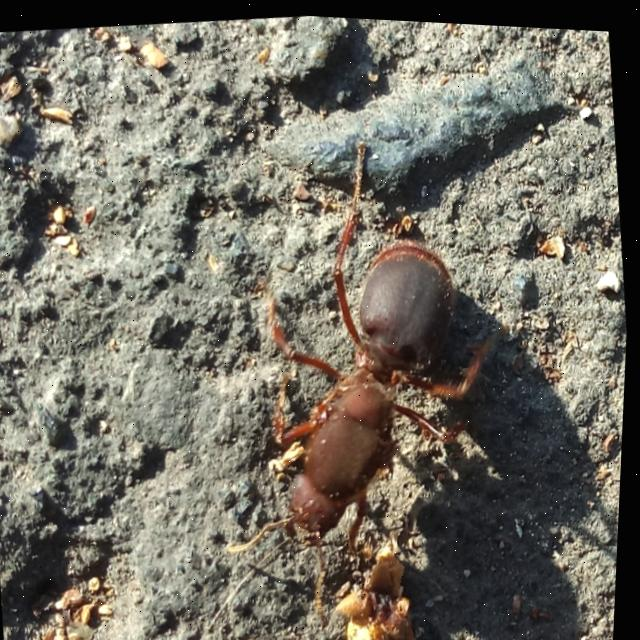Alive-Female-Dealate: (187, 114, 546, 629)
